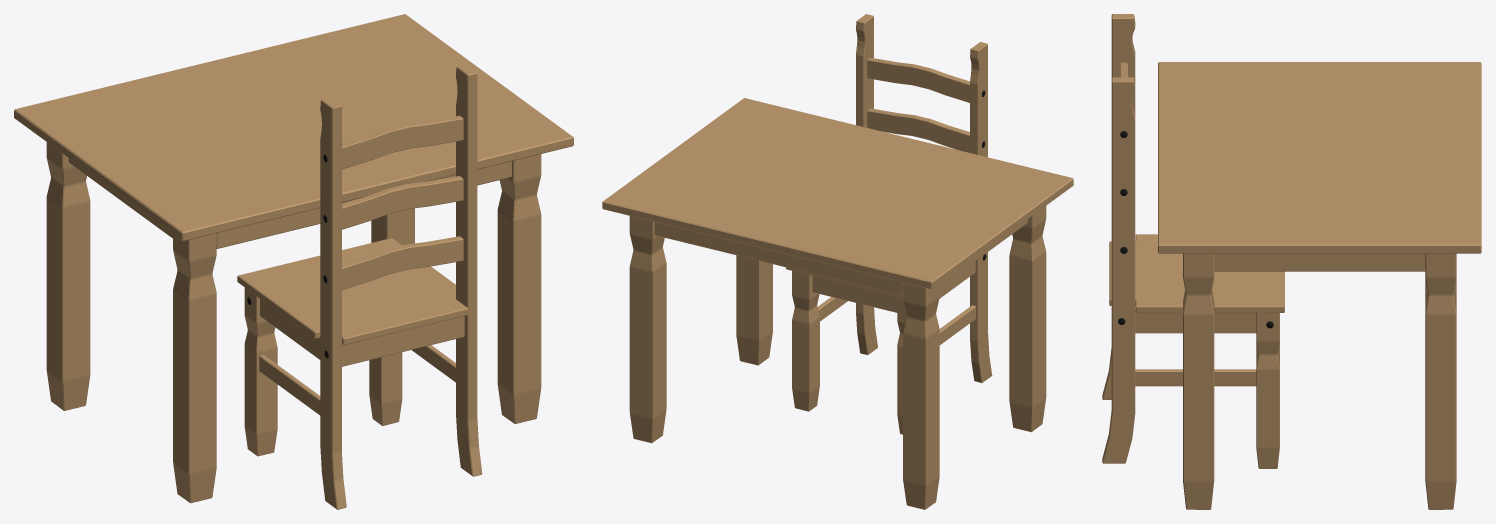
Rendered from Corona Dining Table Set.fbx.
The picture shows the model from 3 angles, left to right: view 1: azimuth 30°, elevation 25°; view 2: azimuth 150°, elevation 25°; view 3: azimuth 270°, elevation 25°; orthographic projection. The views are drawn at different scales.
Parts seen in each view (by area): view 1: Cube.003, Cube.000; view 2: Cube.003, Cube.000; view 3: Cube.003, Cube.000.
Boxes of the visible parts, <box> form: Cube.003: <box>14,14,573,503</box>; Cube.000: <box>237,64,482,509</box>; Cube.003: <box>602,98,1073,509</box>; Cube.000: <box>786,14,992,434</box>; Cube.003: <box>1158,62,1481,509</box>; Cube.000: <box>1102,14,1284,468</box>.
Bounding box in the file's own units: 110 × 109 × 96.09.
